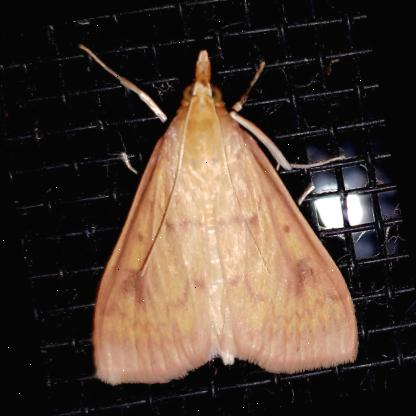Asian Corn Borer Moth: (33, 0, 385, 414)
